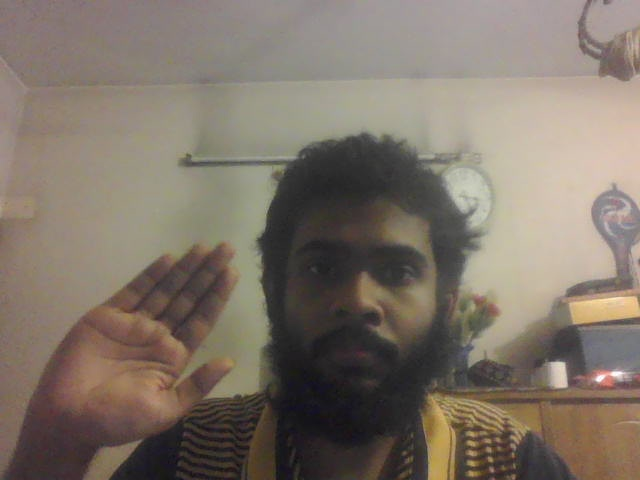Hello: (26, 242, 246, 441)
